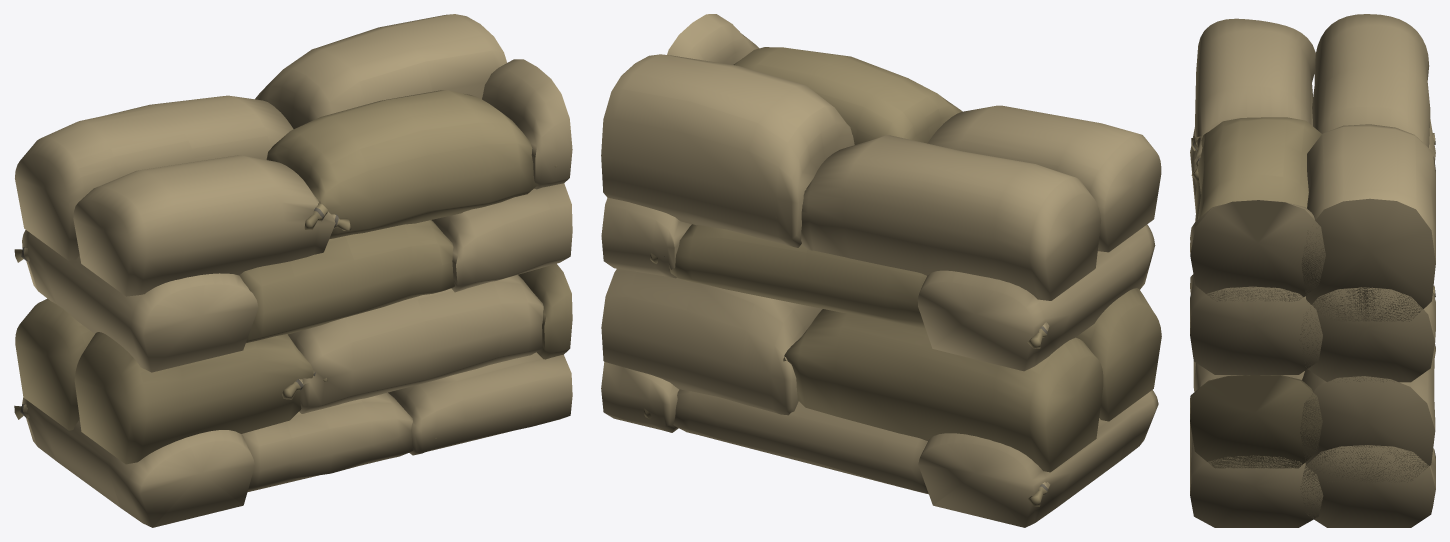
File: sandbags_start.glb
The picture shows the model from 3 angles, left to right: view 1: azimuth 30°, elevation 25°; view 2: azimuth 150°, elevation 25°; view 3: azimuth 270°, elevation 25°; orthographic projection. The views are drawn at different scales.
Visible parts, largest first — view 1: sandbags_start; view 2: sandbags_start; view 3: sandbags_start.
Boxes of the visible parts, <box> form: sandbags_start: <box>14,14,572,527</box>; sandbags_start: <box>601,14,1161,527</box>; sandbags_start: <box>1190,14,1435,527</box>.
Bounding box in the file's own units: 1.2 × 0.9 × 0.6.
